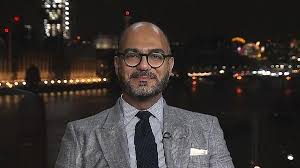middle_eastern_male: (115, 17, 176, 99)
